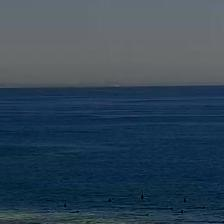surfer: (72, 210, 80, 213), (180, 209, 184, 213), (108, 198, 112, 202), (169, 207, 173, 210), (64, 203, 67, 207), (145, 214, 149, 217), (203, 206, 206, 209), (141, 195, 144, 198), (184, 198, 186, 202)
